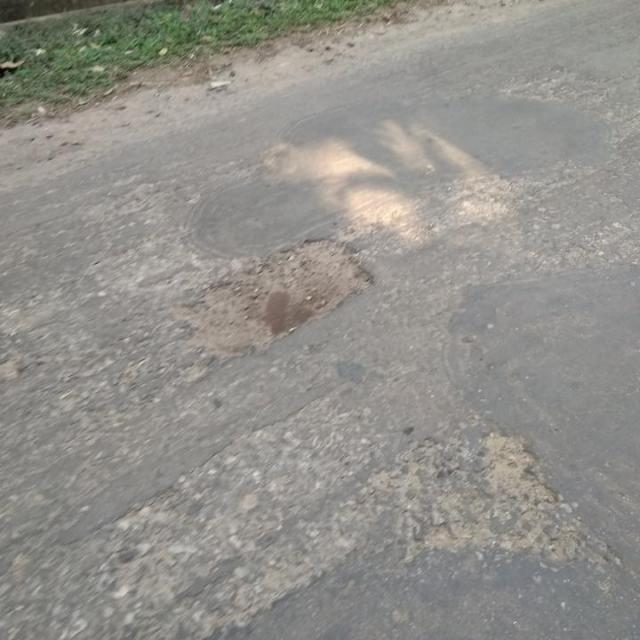pothole: (170, 234, 378, 364), (480, 424, 561, 508)
